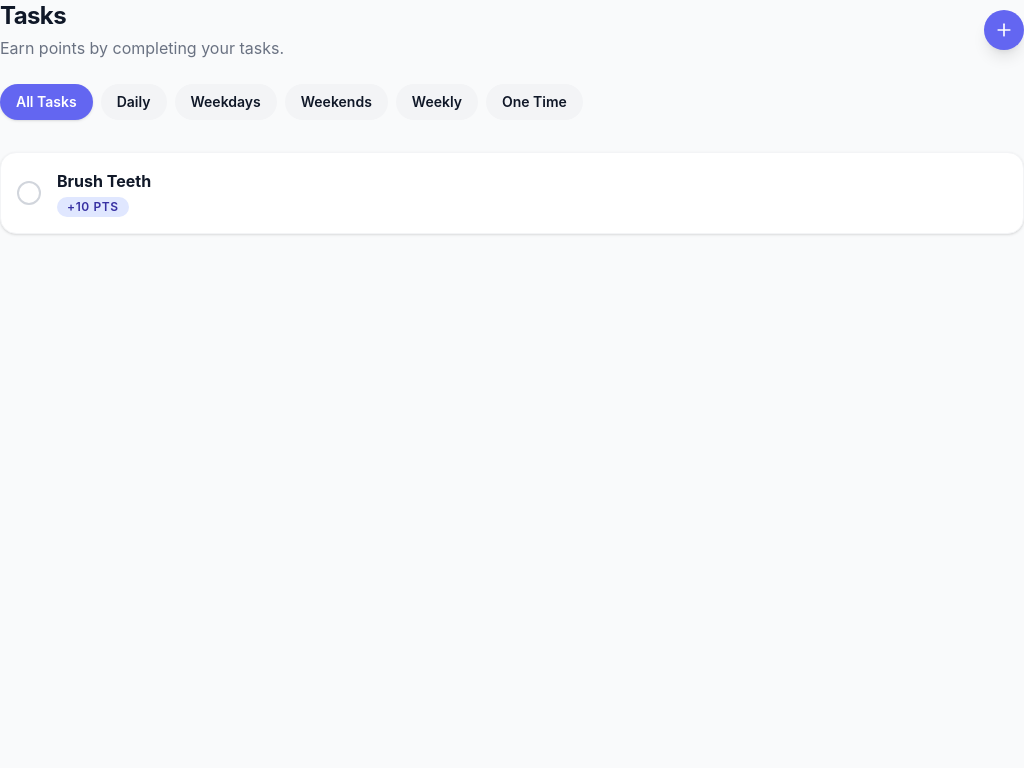
Test: Tasks page — save lifecycle › a successful save closes the modal and shows a success message
The width and height of the screenshot is (1024, 768).
Click the button named "Add Task": (1004, 30) [984,10,1023,50]
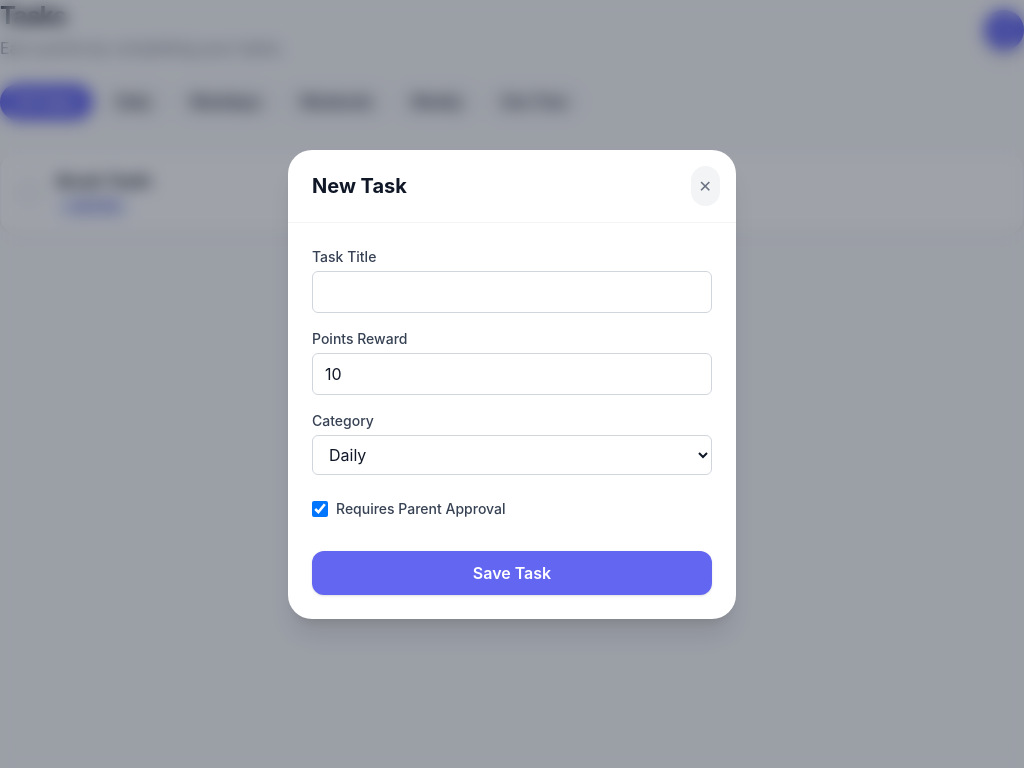
In the field: (512, 292) [312,270,712,312], type "Tidy room"
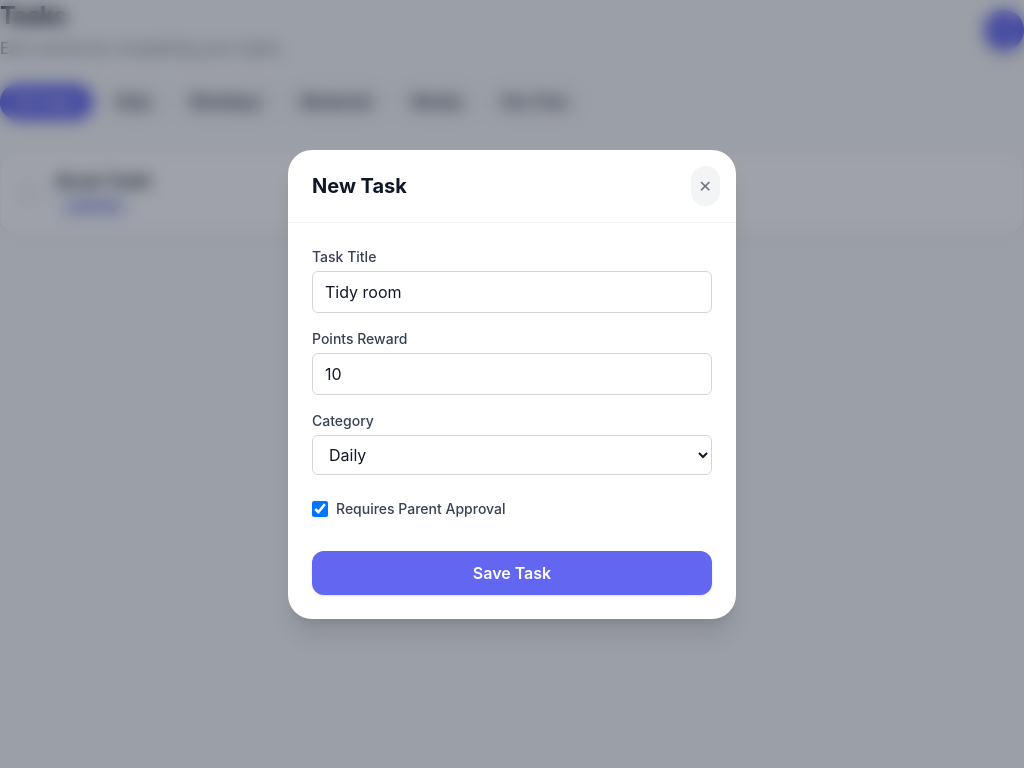
Click the button "Save Task": (512, 572) [312,550,712,594]
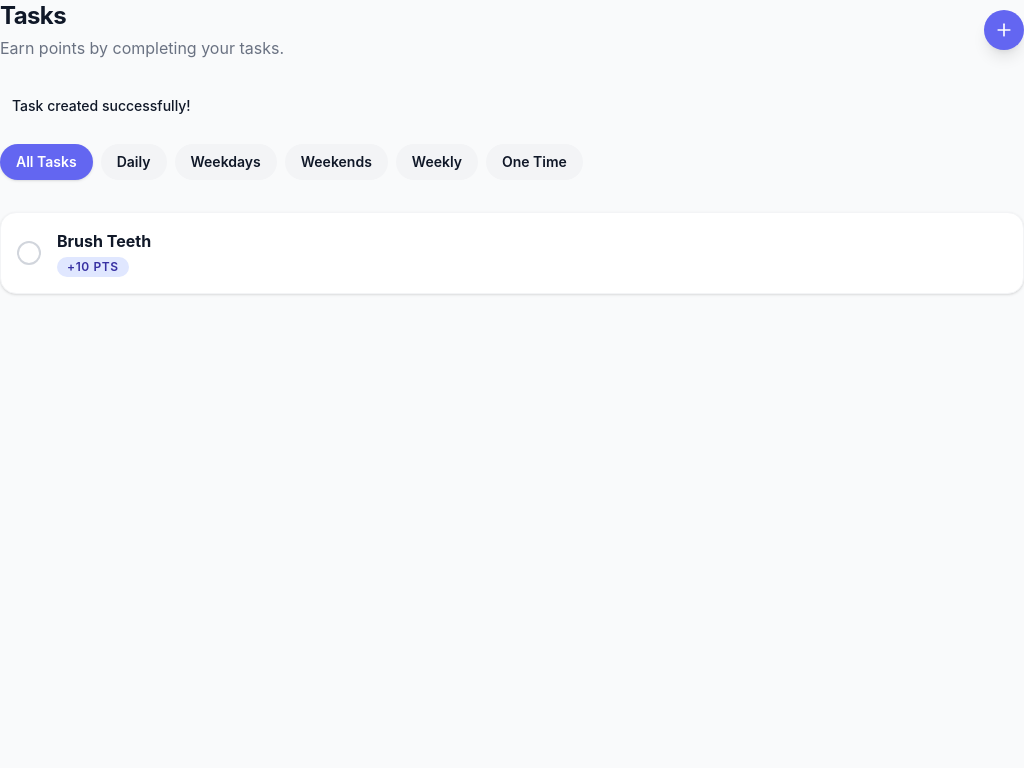
expect the heading "New Task" is gone: met
expect the text "Task created successfully!" is shown: met, box [12,97,191,114]
